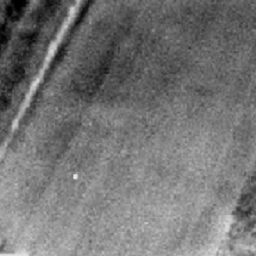Target: (70, 172, 80, 182)
